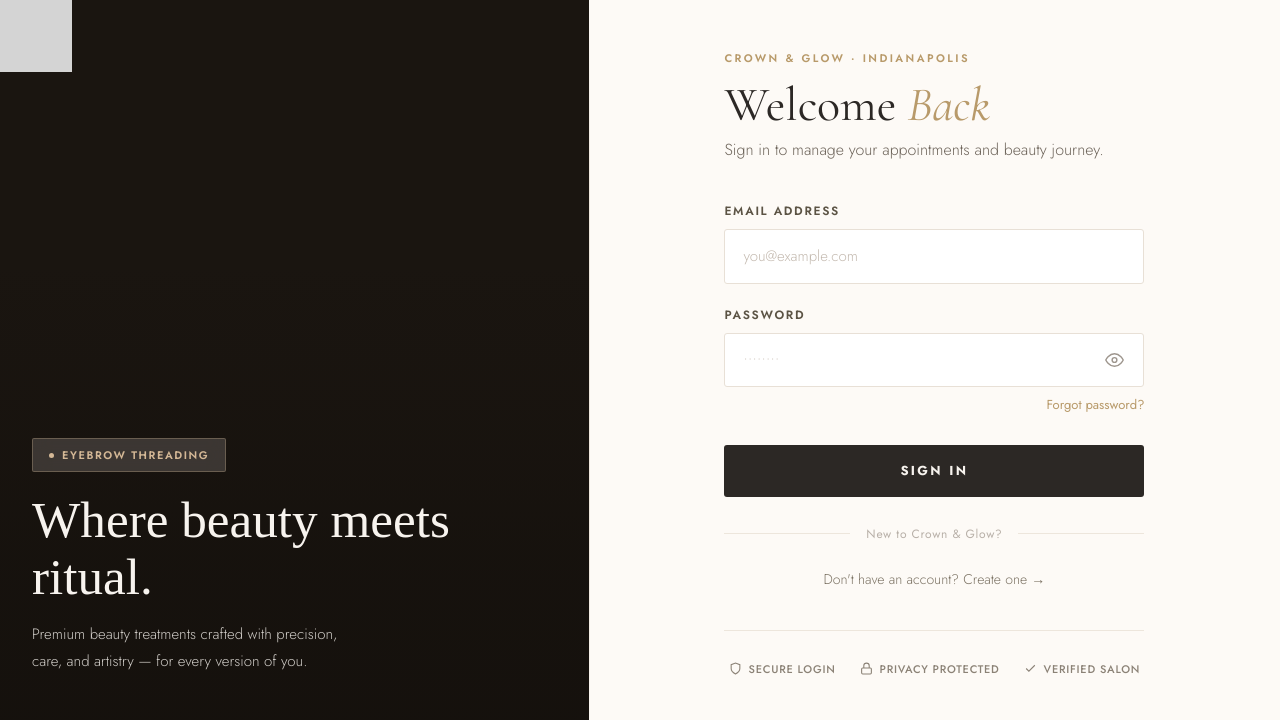
it: <LoginPage /> › shows the error message and does not redirect when login fails
The width and height of the screenshot is (1280, 720).
Type "jane@example.com" into the field labelled "Email Address" at (934, 256), box [724, 229, 1144, 284]
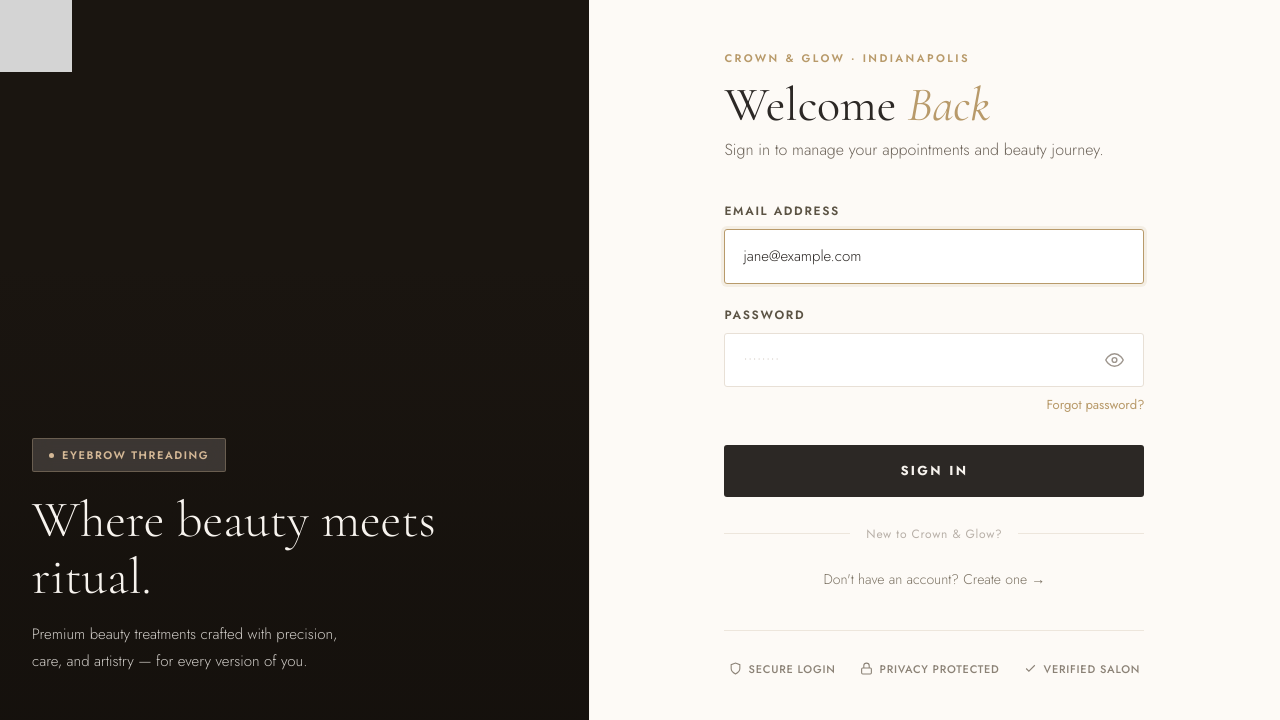
Type "WrongPassword1!" into the password field labelled "Password" at (934, 360), box [724, 333, 1144, 387]
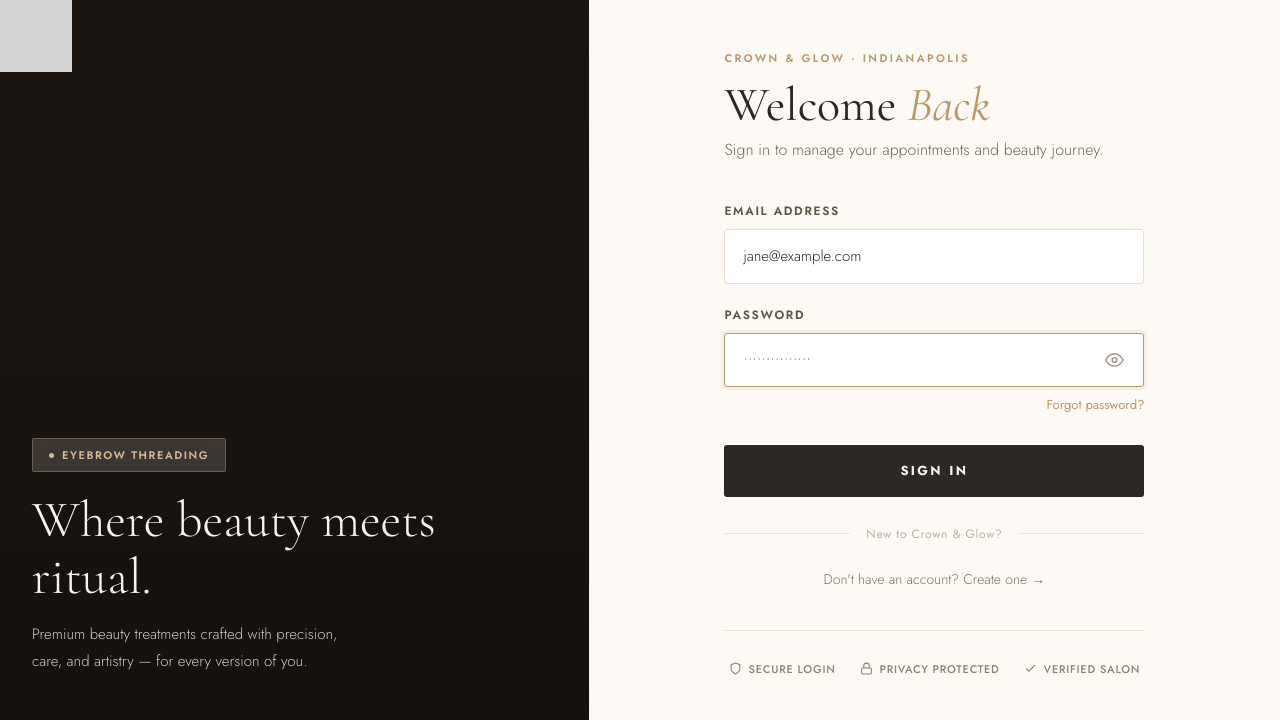
Click the button "Sign In" at (934, 471), box [724, 445, 1144, 497]
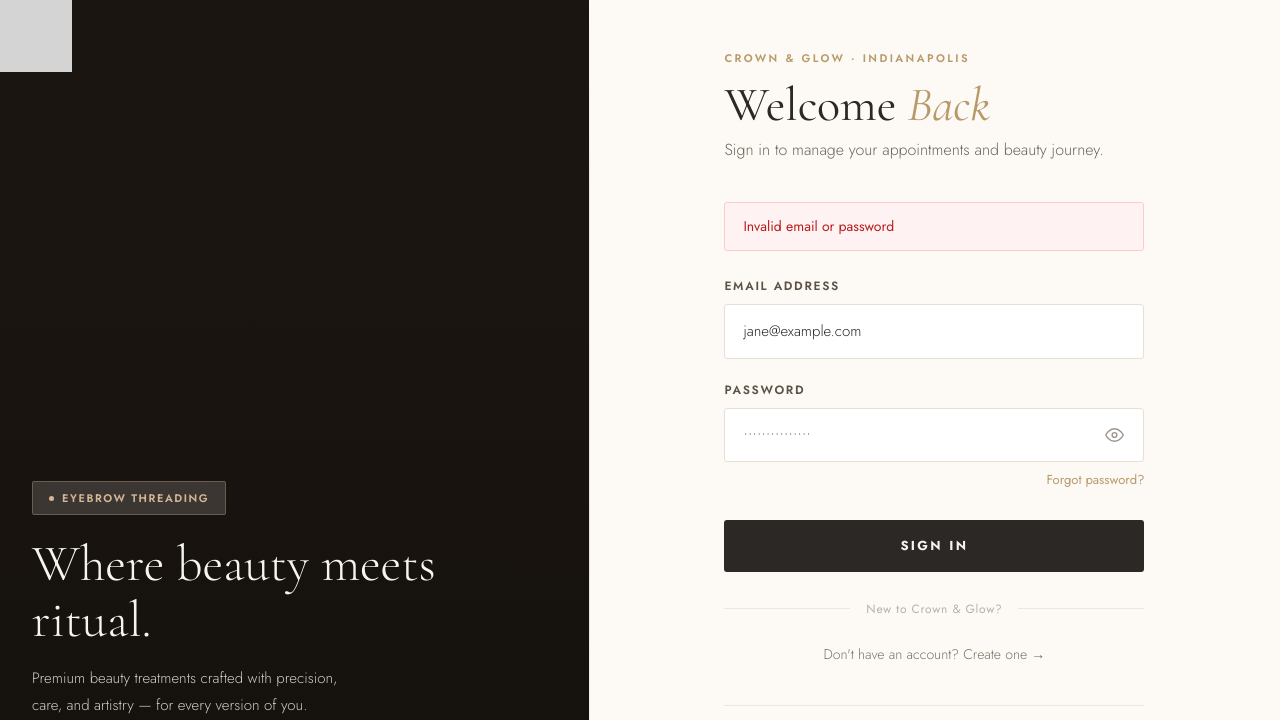
Expected: the text "Invalid email or password" is shown, [724, 202, 1144, 251]
